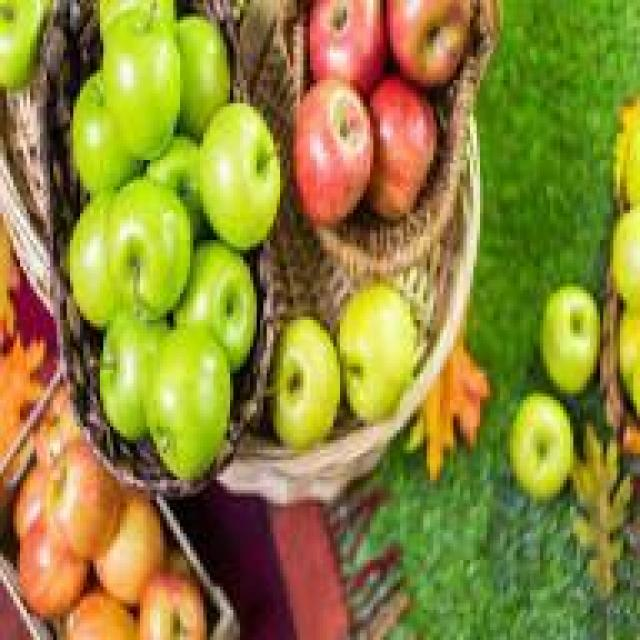apple: (147, 327, 233, 480), (357, 74, 440, 224), (287, 80, 370, 227), (97, 20, 180, 163), (193, 110, 280, 240), (333, 283, 417, 410), (113, 176, 190, 306), (270, 310, 340, 450), (166, 243, 256, 350), (97, 307, 180, 423), (90, 480, 157, 597), (507, 377, 573, 493), (47, 450, 120, 550), (17, 503, 83, 607), (307, 7, 383, 96), (387, 7, 463, 96), (537, 287, 600, 390)
